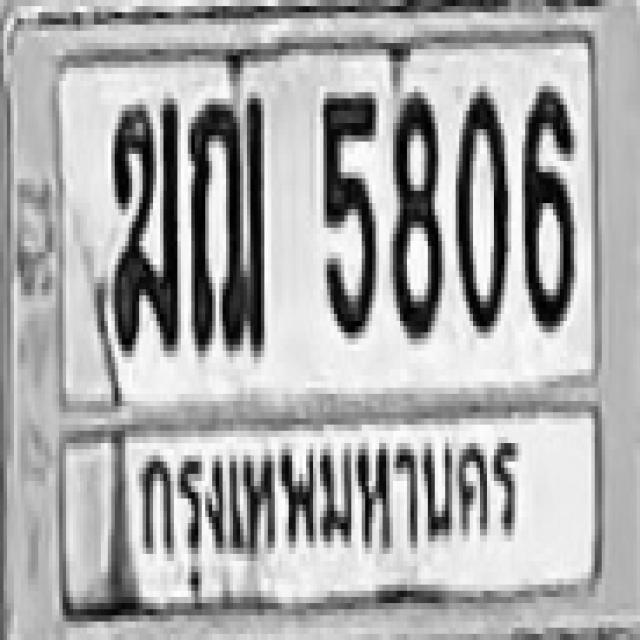0: (452, 86, 504, 326)
15KhorRaKhang: (106, 95, 176, 348)
21ChorChoe: (186, 92, 263, 351)
5: (320, 86, 372, 332)
6: (520, 80, 572, 326)
8: (390, 86, 438, 332)
Bangkok: (124, 426, 540, 594)
